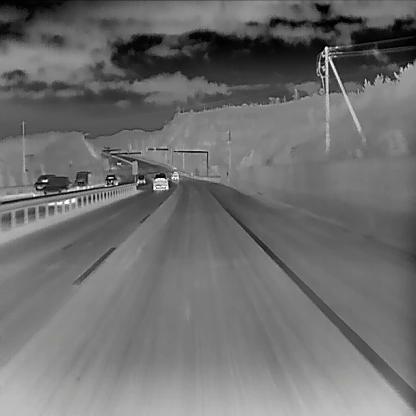car: (42, 174, 76, 205), (31, 172, 57, 196), (74, 170, 92, 190), (151, 172, 169, 188), (103, 172, 118, 187), (136, 173, 145, 183), (170, 170, 179, 180), (115, 159, 121, 164)
